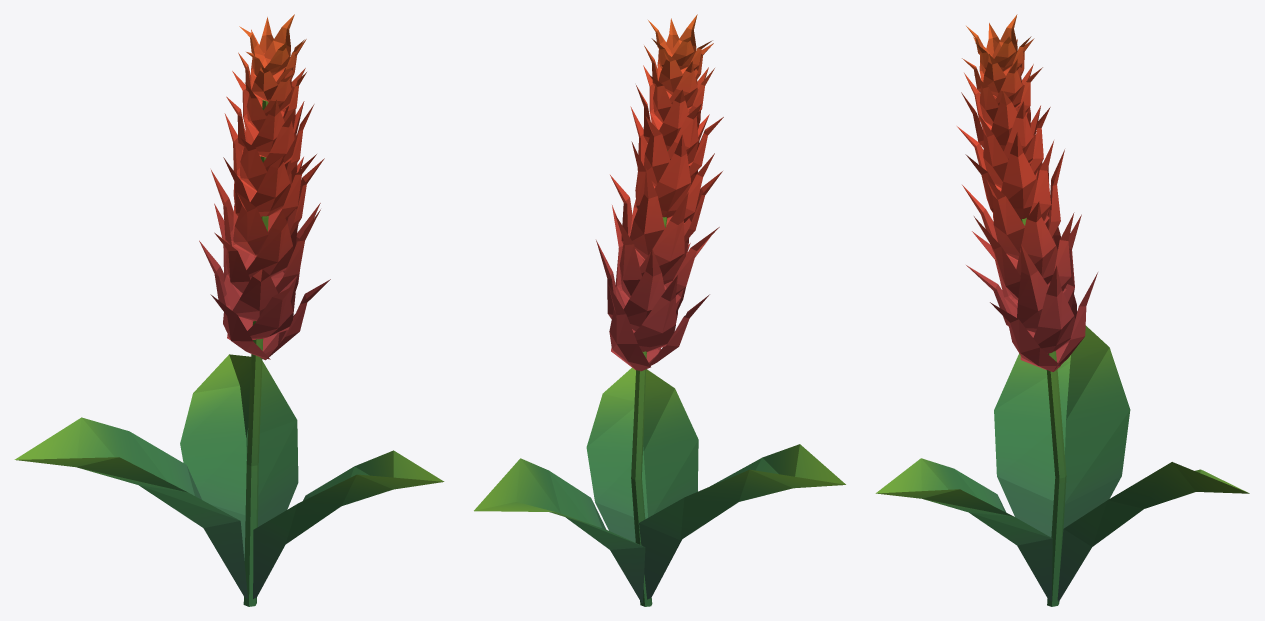
File: roja-3.glb
3 views of the same model, side by side, from view 1: azimuth 30°, elevation 25°; view 2: azimuth 150°, elevation 25°; view 3: azimuth 270°, elevation 25° (orthographic). The views are drawn at different scales.
Visible parts, largest first — view 1: Flower.031; view 2: Flower.031; view 3: Flower.031.
Boxes of the visible parts, left/top/right/bottom form: Flower.031: left=14, top=14, right=444, bottom=606; Flower.031: left=474, top=14, right=845, bottom=606; Flower.031: left=875, top=14, right=1249, bottom=606.
Bounding box in the file's own units: 2.11 × 3.72 × 2.18.
1 material, 1 textured.
